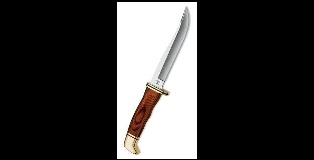k1: (143, 4, 191, 96)
